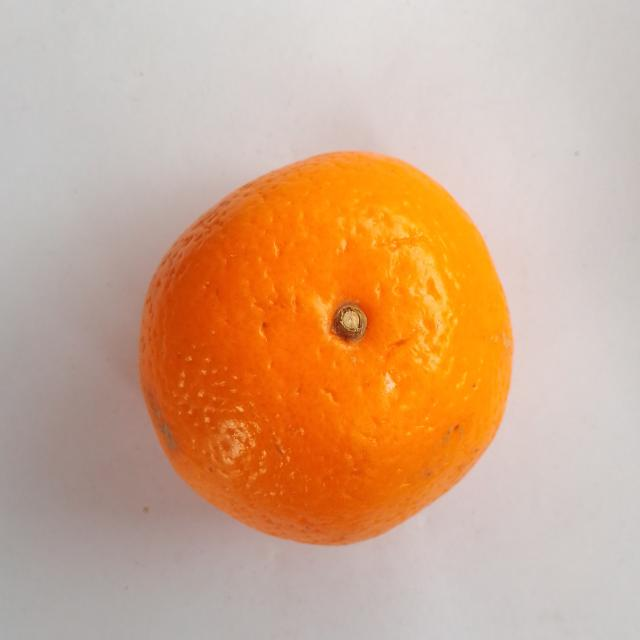orange: (140, 153, 512, 544)
